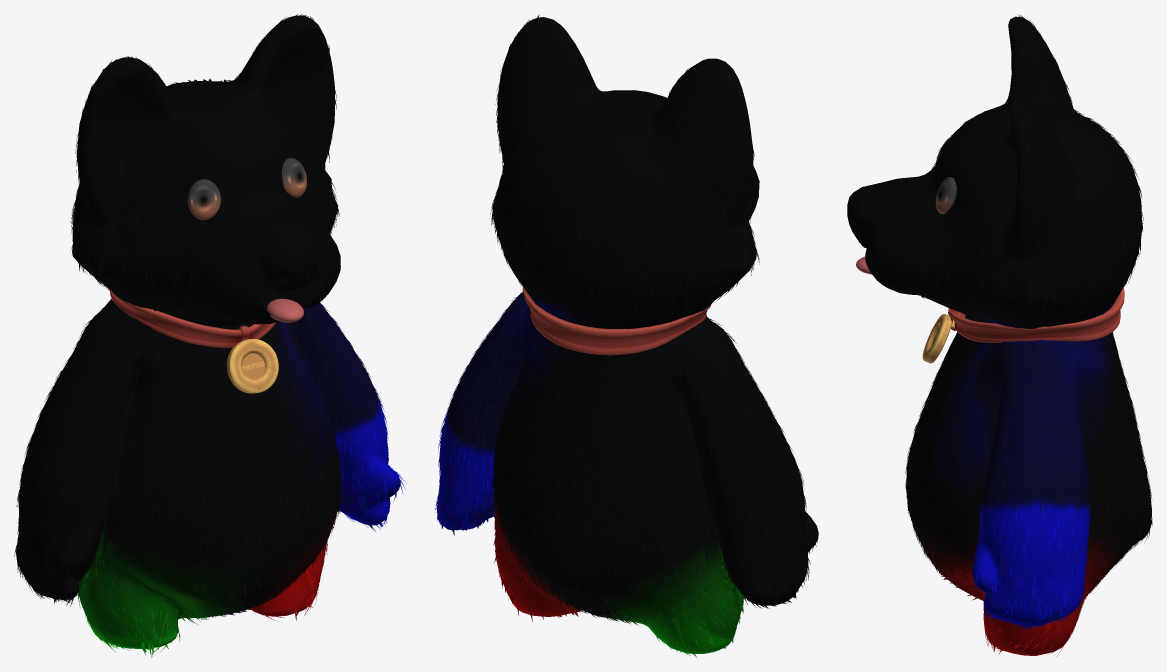
File: nemo_shell_v12.glb
The picture shows the model from 3 angles, left to right: view 1: azimuth 30°, elevation 25°; view 2: azimuth 150°, elevation 25°; view 3: azimuth 270°, elevation 25°; orthographic projection. The views are drawn at different scales.
Visible parts, largest first — view 1: BoundedShellGroom, Body, LayeredCurvedGroom, Collar, Nemo_Normal, Small tongue inside smile; view 2: BoundedShellGroom, LayeredCurvedGroom, Body, Collar; view 3: BoundedShellGroom, LayeredCurvedGroom, Body, Collar, Nemo_Normal.
Boxes of the visible parts, x1,y1,x2,y2 form: BoundedShellGroom: (16, 15, 400, 648); Body: (18, 44, 388, 634); LayeredCurvedGroom: (14, 14, 406, 657); Collar: (107, 287, 278, 393); Nemo_Normal: (187, 158, 306, 219); Small tongue inside smile: (267, 298, 303, 322); BoundedShellGroom: (436, 17, 818, 653); LayeredCurvedGroom: (435, 14, 817, 657); Body: (439, 72, 813, 635); Collar: (522, 287, 711, 355); BoundedShellGroom: (847, 16, 1151, 655); LayeredCurvedGroom: (905, 14, 1152, 656); Body: (850, 73, 1134, 617); Collar: (922, 287, 1124, 363); Nemo_Normal: (935, 138, 956, 213).
Size of the model in its own units: 1.69 by 2.71 by 1.34.
Materials: 7 (5 with a texture image).
